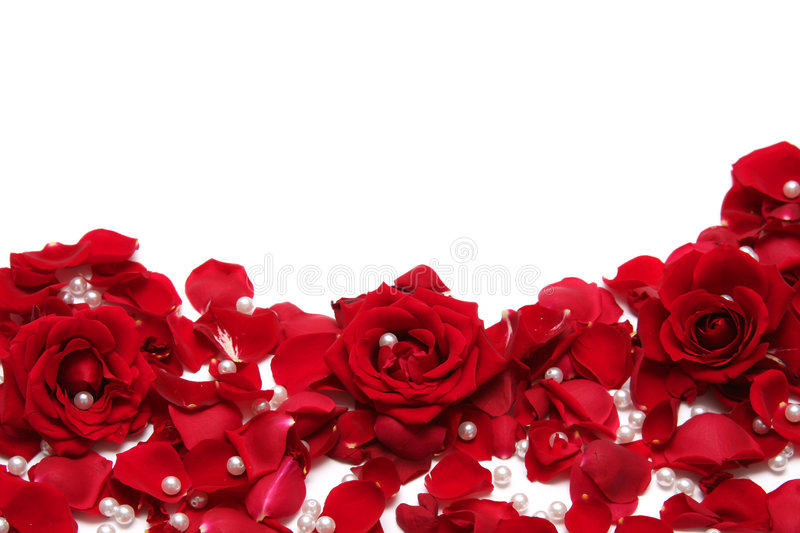RedRose: (322, 233, 489, 433), (12, 315, 162, 455), (648, 274, 774, 402)
